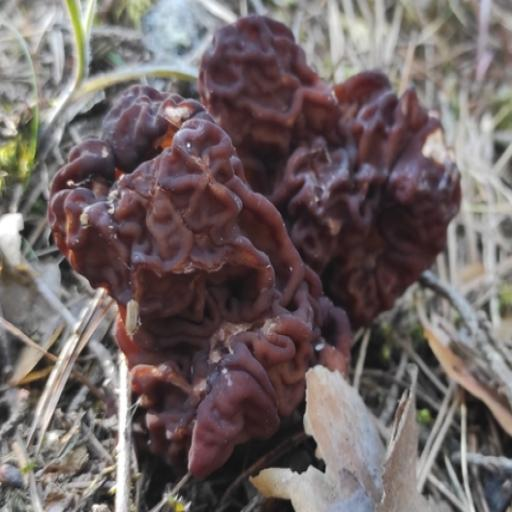mushroom: (49, 14, 459, 465)
